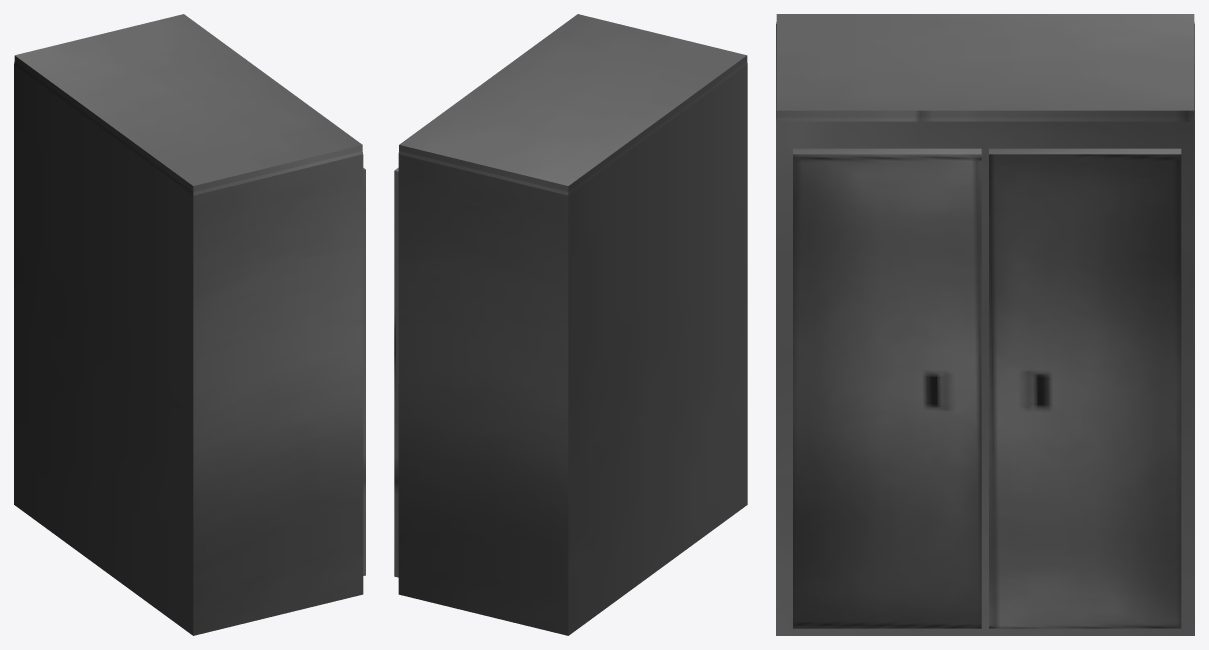
The model's file is metalArmiore.fbx.
3 renders of one model, left to right at view 1: azimuth 30°, elevation 25°; view 2: azimuth 150°, elevation 25°; view 3: azimuth 270°, elevation 25°, orthographic. The views are drawn at different scales.
Visible parts, largest first — view 1: Cube, Cube.001; view 2: Cube, Cube.002; view 3: Cube.002, Cube.001, Cube.
Part boxes in pixels (bbox=[...]): Cube: bbox=[14, 14, 363, 635]; Cube.001: bbox=[363, 168, 365, 575]; Cube: bbox=[398, 14, 747, 635]; Cube.002: bbox=[394, 167, 398, 577]; Cube.002: bbox=[989, 148, 1181, 628]; Cube.001: bbox=[793, 148, 981, 628]; Cube: bbox=[776, 14, 1194, 635].
Bounding box in the file's own units: 1.51 × 3.61 × 2.61.
